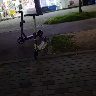beam: (13, 8, 45, 44)
gcooter: (21, 12, 52, 59)
